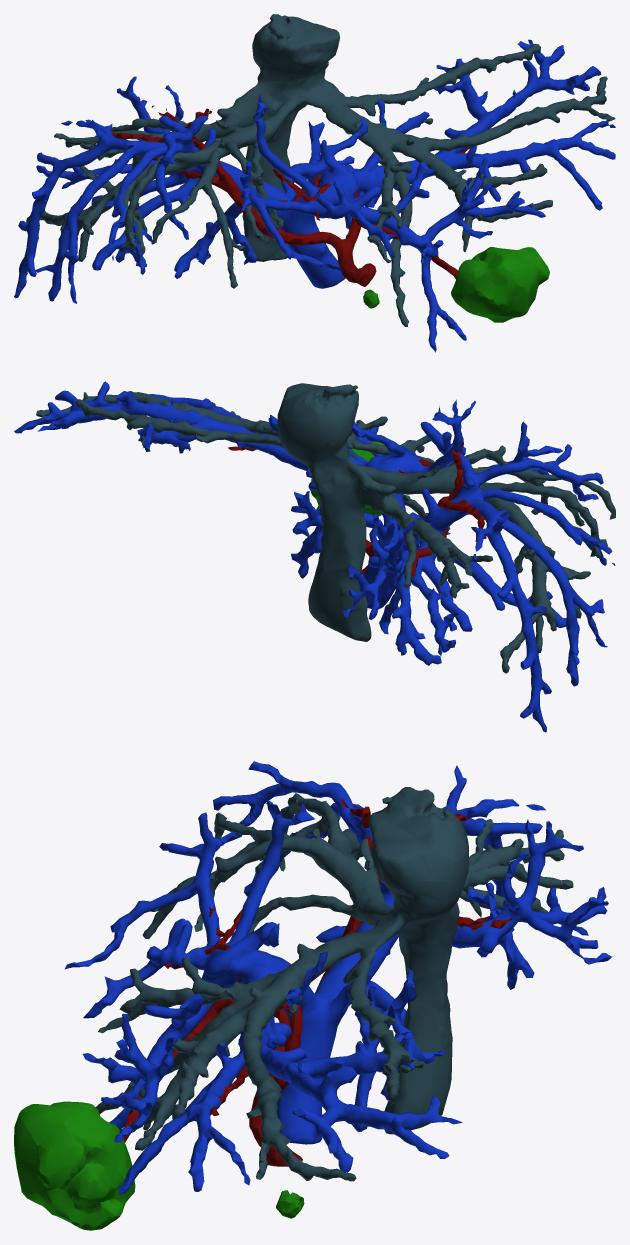
The model's file is 2. Modell für Hololens_downsized.fbx.
The picture shows the model from 3 angles, top to bottom: view 1: azimuth 30°, elevation 25°; view 2: azimuth 150°, elevation 25°; view 3: azimuth 270°, elevation 25°; orthographic projection. The views are drawn at different scales.
Visible parts, largest first — view 1: Pfortader, Venen, Tumor, Arterie; view 2: Pfortader, Venen, Arterie; view 3: Pfortader, Venen, Tumor, Arterie.
Part boxes in pixels (box(x1,y1,x2,y2)): Pfortader: box(14, 39, 615, 352); Venen: box(26, 14, 615, 326); Tumor: box(451, 247, 549, 322); Arterie: box(111, 105, 546, 286); Pfortader: box(14, 381, 615, 732); Venen: box(36, 383, 615, 673); Arterie: box(201, 407, 498, 577); Pfortader: box(64, 761, 613, 1194); Venen: box(95, 787, 573, 1181); Tumor: box(14, 1101, 135, 1230); Arterie: box(123, 798, 512, 1166).
Size of the model in its own units: 4742 by 2265 by 3157.
